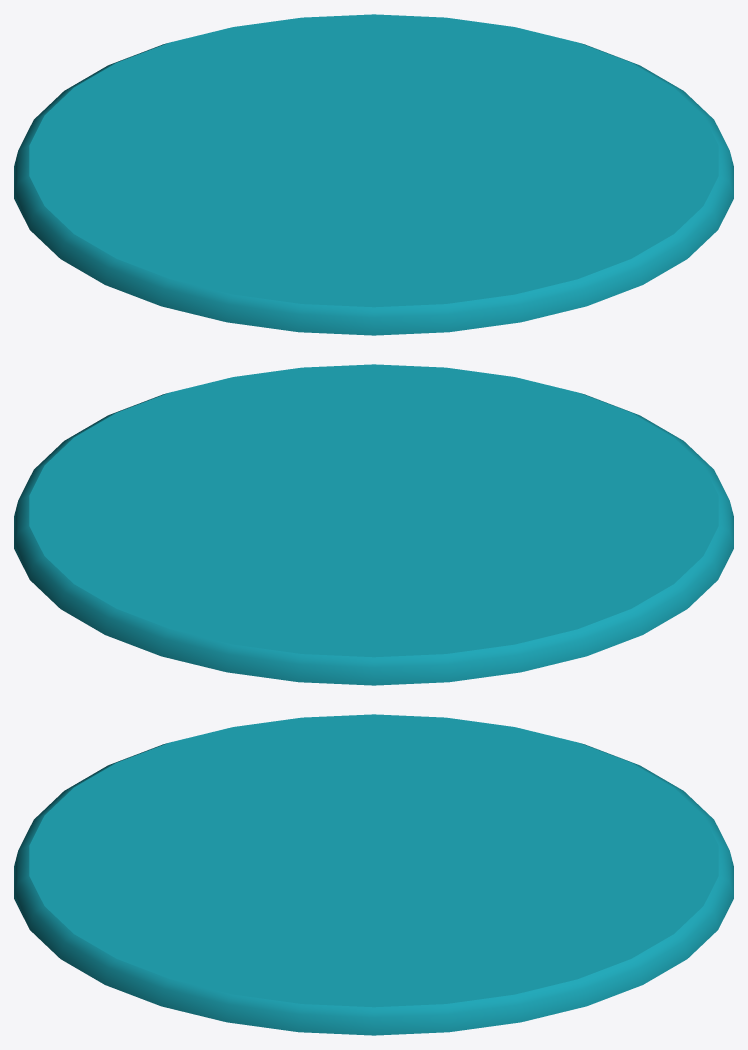
File: Bumper_B_Base.fbx
3 renders of one model, top to bottom at view 1: azimuth 30°, elevation 25°; view 2: azimuth 150°, elevation 25°; view 3: azimuth 270°, elevation 25°, orthographic.
Parts seen in each view (by area): view 1: Bumper_B_Base; view 2: Bumper_B_Base; view 3: Bumper_B_Base.
Boxes of the visible parts, x1,y1,x2,y2 form: Bumper_B_Base: (14, 14, 733, 335); Bumper_B_Base: (14, 364, 733, 685); Bumper_B_Base: (14, 714, 733, 1035).
Bounding box in the file's own units: 5.34 × 0.1773 × 5.31.
